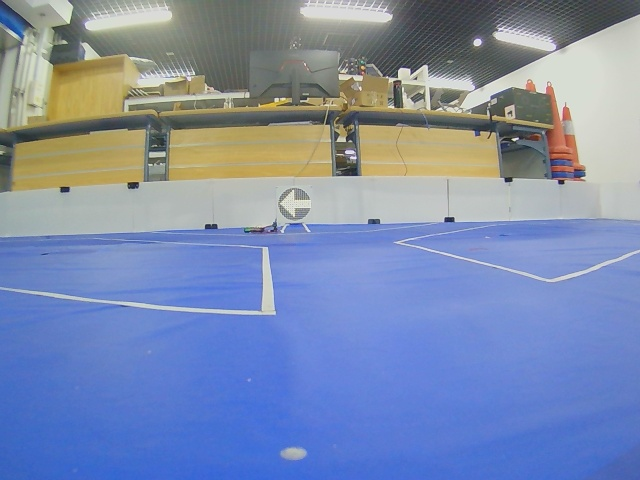left_yellow: (278, 188, 311, 222)
